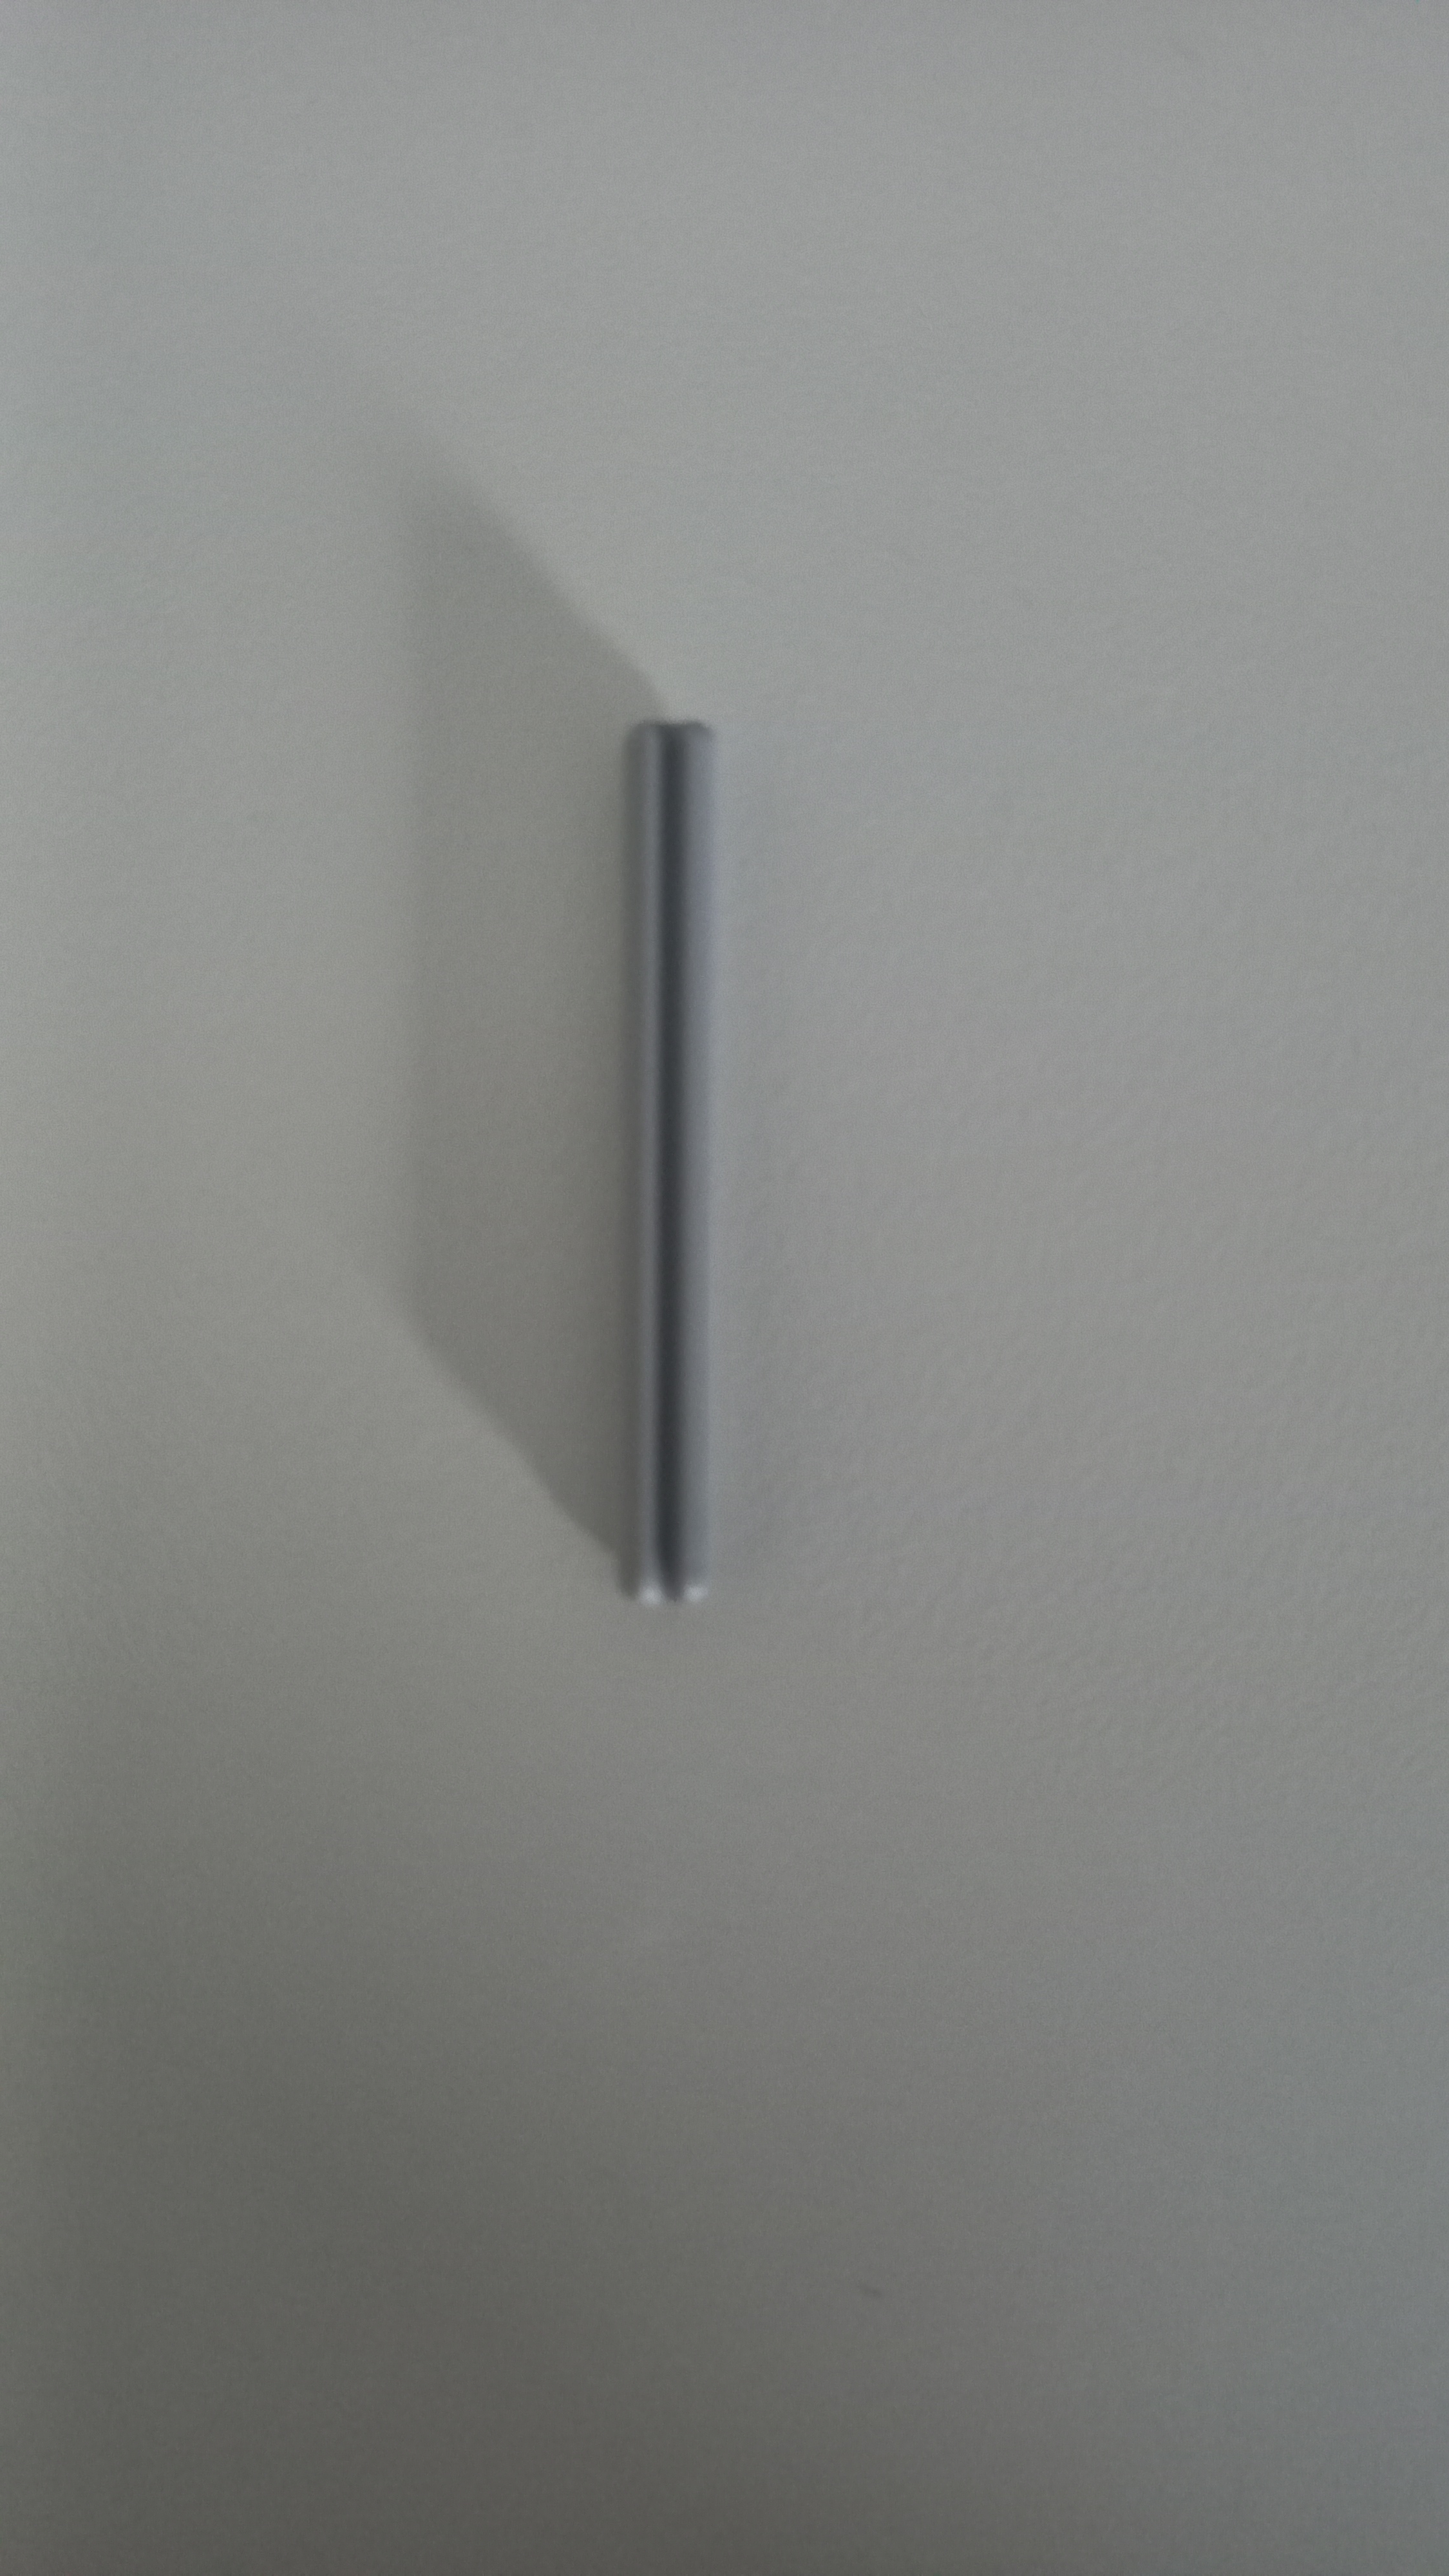Grau_kurz: (605, 697, 729, 1637)
